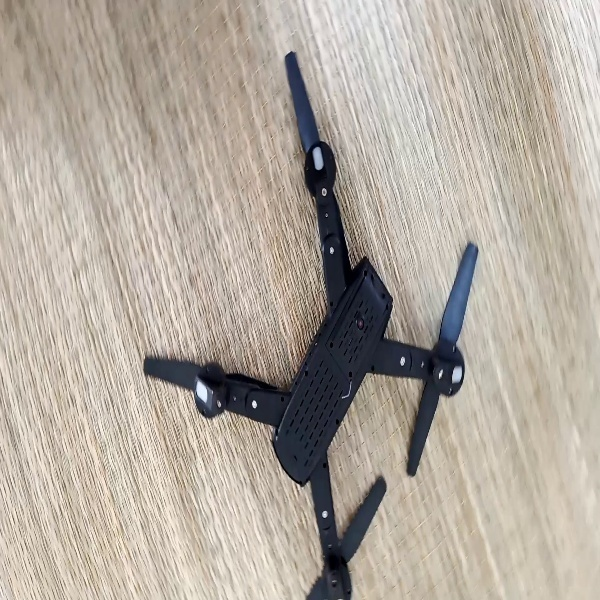drone: (135, 42, 483, 600)
